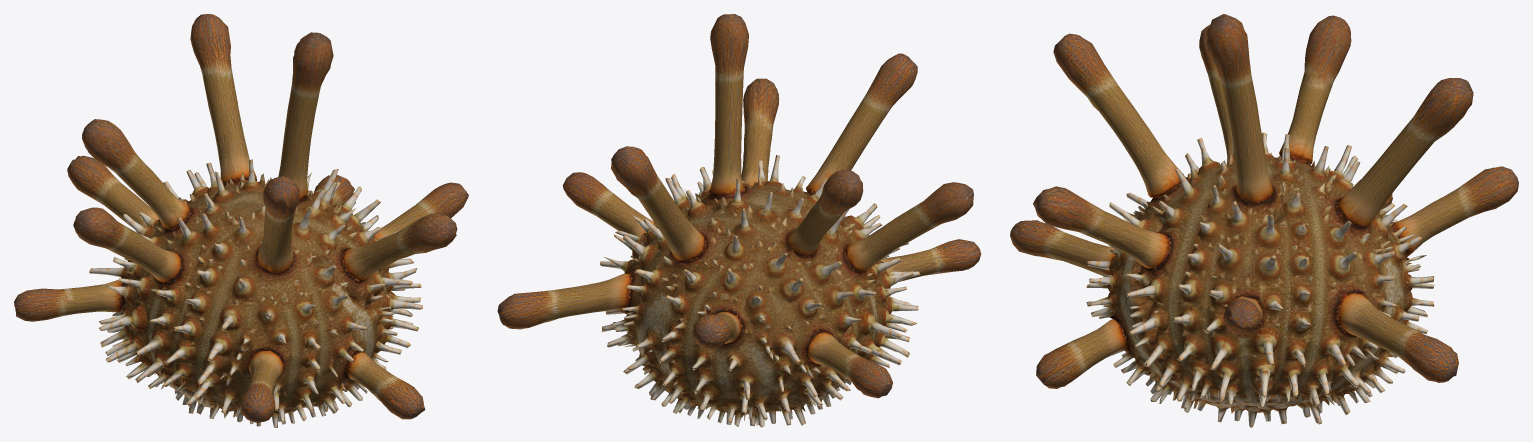
Rendered from cidaris.raw.glb.
3 renders of one model, left to right at view 1: azimuth 30°, elevation 25°; view 2: azimuth 150°, elevation 25°; view 3: azimuth 270°, elevation 25°, orthographic. The views are drawn at different scales.
Visible parts, largest first — view 1: tripo_node_55006fbf-55f2-4627-9795-980993ac9824; view 2: tripo_node_55006fbf-55f2-4627-9795-980993ac9824; view 3: tripo_node_55006fbf-55f2-4627-9795-980993ac9824.
Part boxes in pixels (bbox=[...]): tripo_node_55006fbf-55f2-4627-9795-980993ac9824: bbox=[14, 14, 468, 427]; tripo_node_55006fbf-55f2-4627-9795-980993ac9824: bbox=[497, 14, 981, 427]; tripo_node_55006fbf-55f2-4627-9795-980993ac9824: bbox=[1010, 14, 1518, 427].
Size of the model in its own units: 0.9987 by 0.8632 by 1.
Materials: 1 (1 with a texture image).
